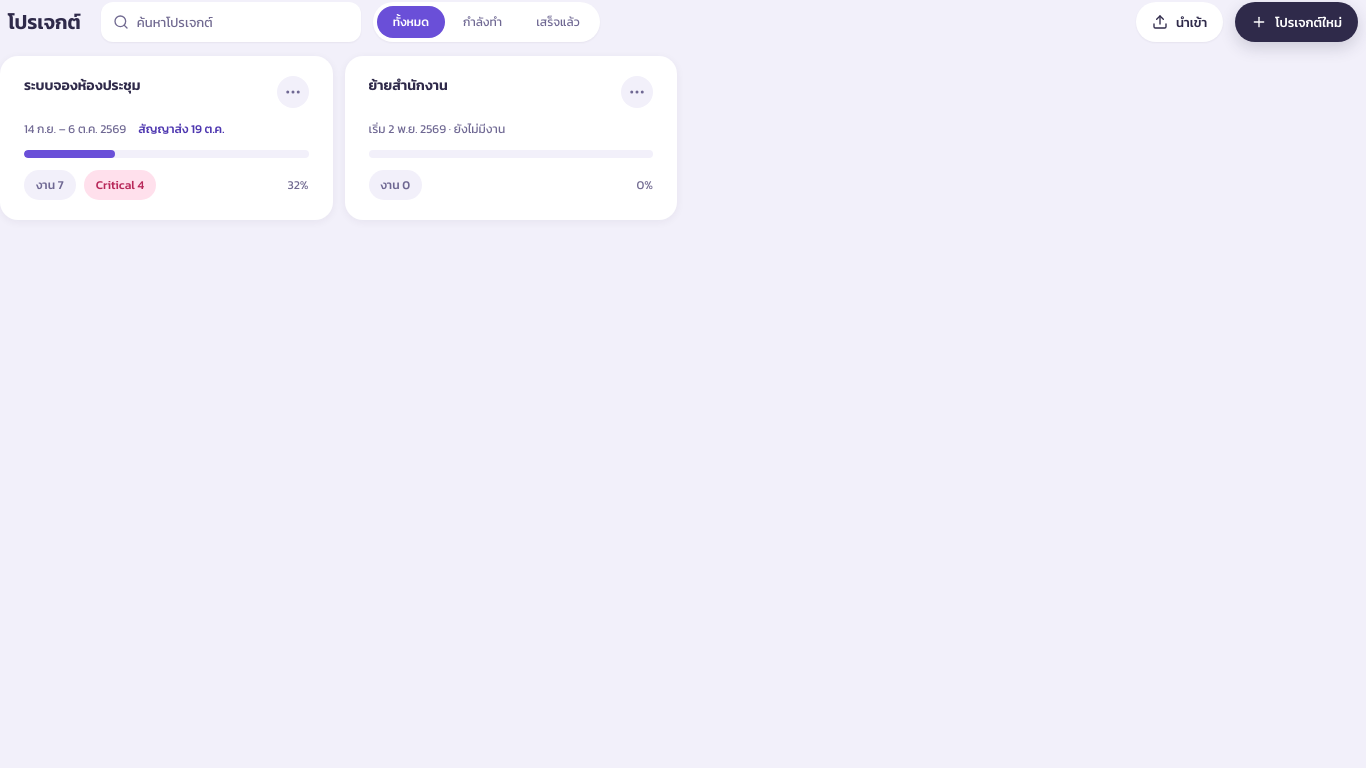
ProjectsPage › deletes a project after confirmation
Click the button named "ตัวเลือกของ ย้ายสำนักงาน" at (637, 92), box [621,76,653,108]
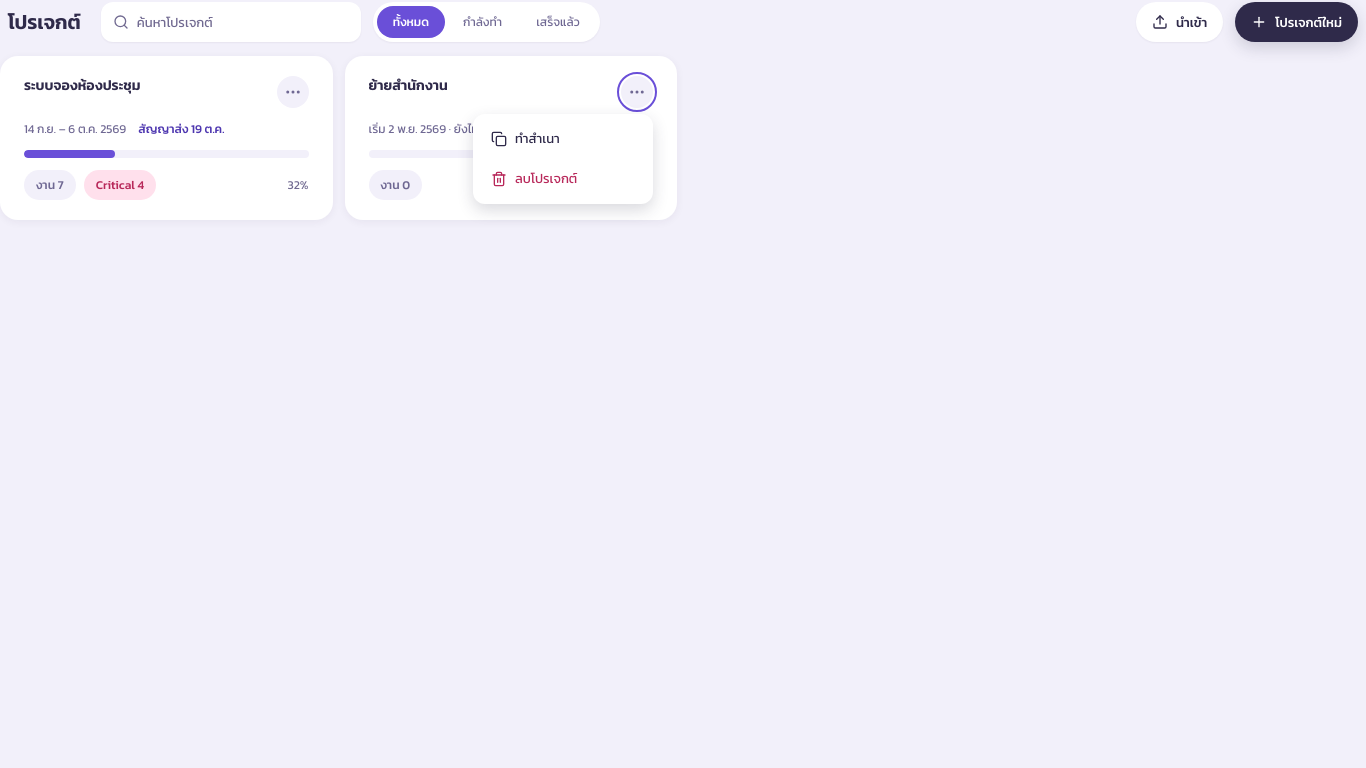
Click the menu item "ลบโปรเจกต์" at (563, 179), box [479,160,647,198]
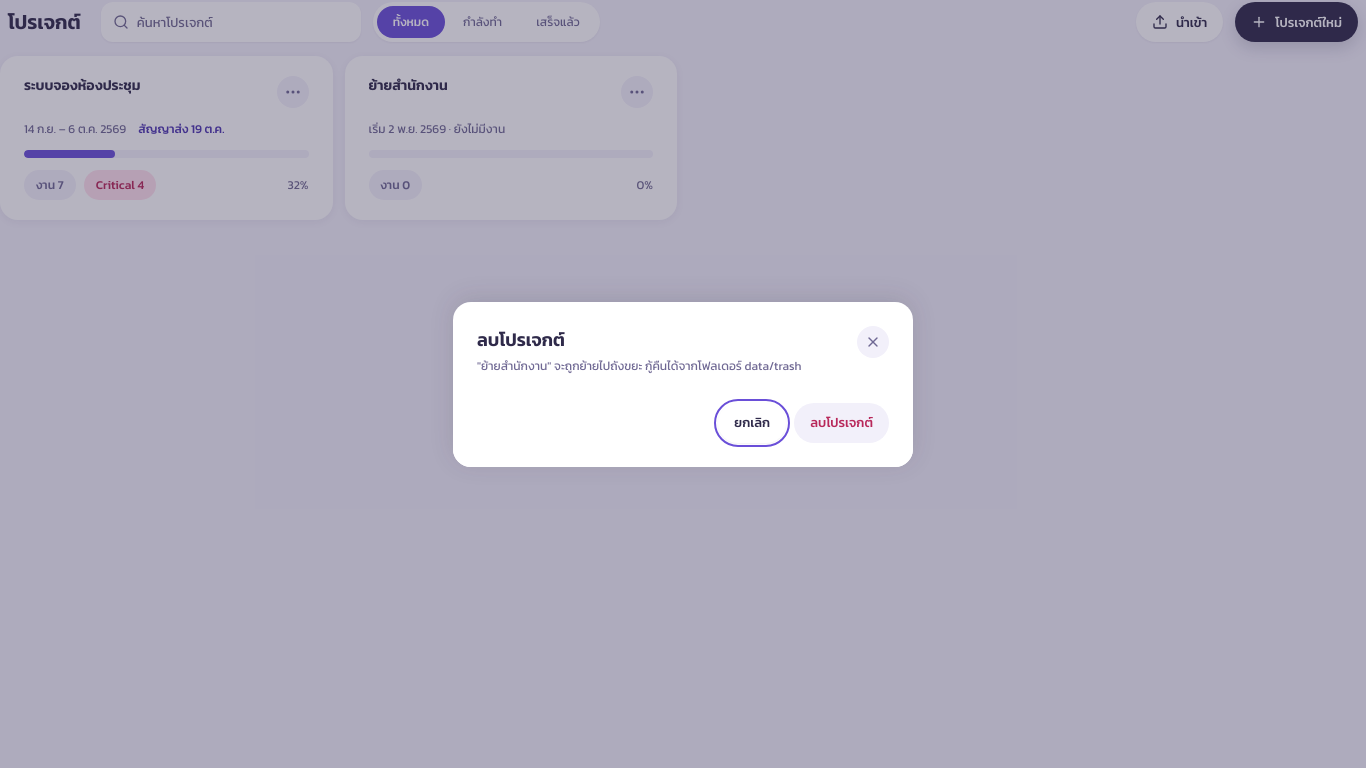
Click the button "ลบโปรเจกต์" at (842, 422), box [794,402,889,442]
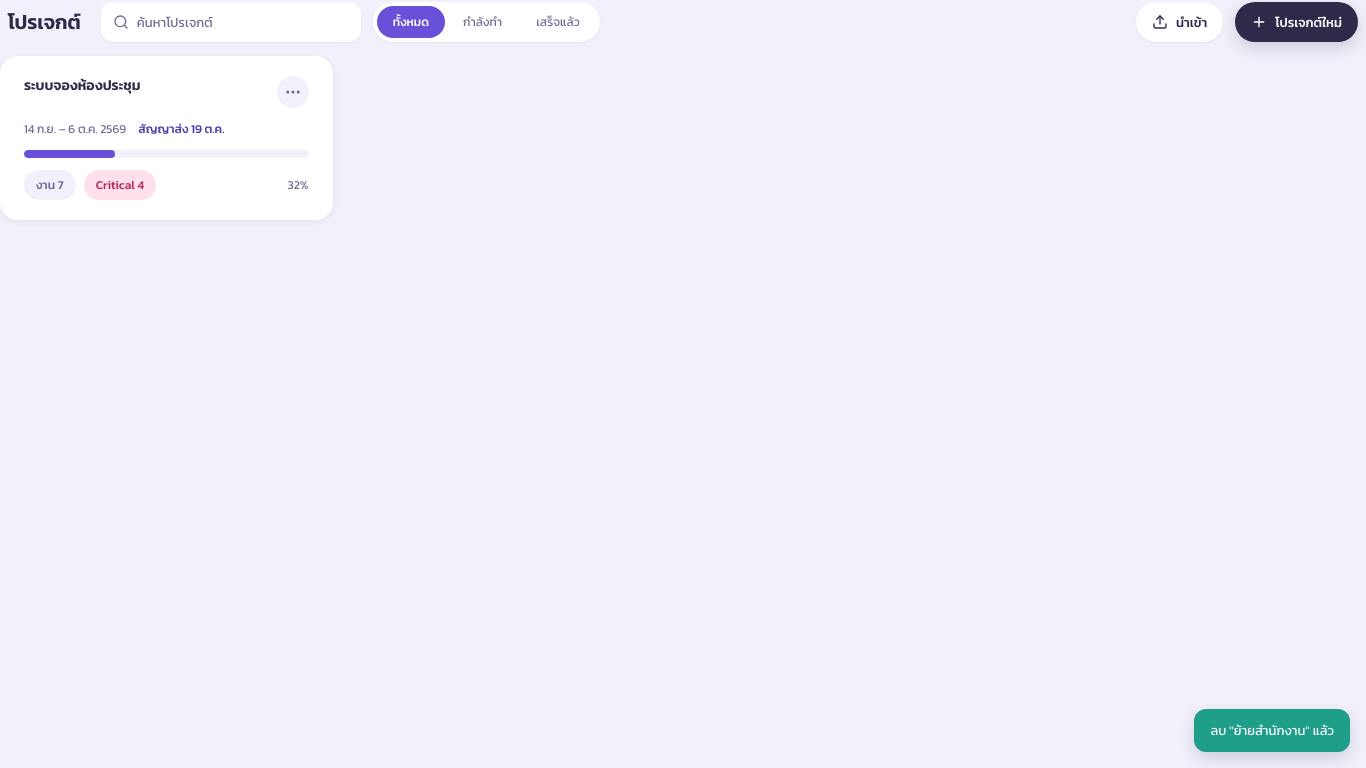
Expected: the text "ลบ \"ย้ายสำนักงาน\" แล้ว" is shown, [1210,720,1334,740]
